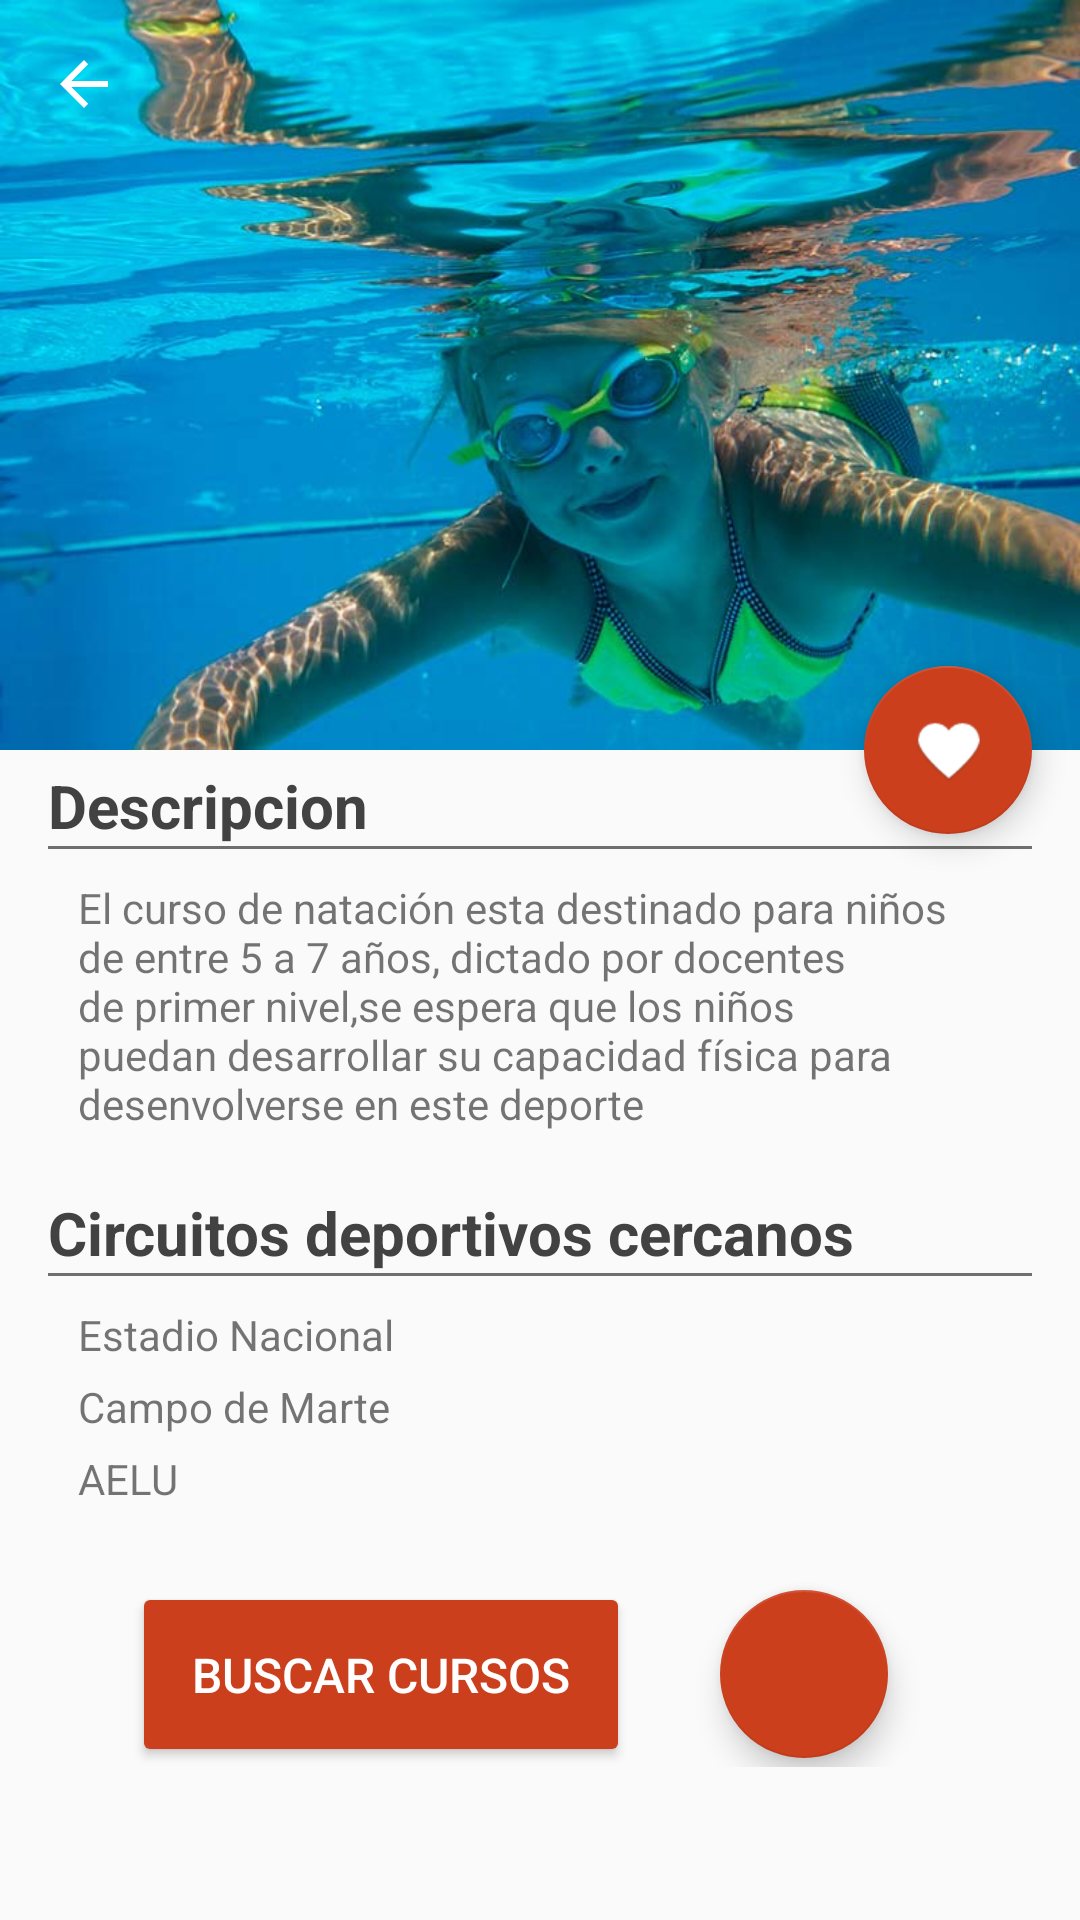

Icons on this 1080×1920 Android screen, each with the point to tap as (x=x, y=y):
like: (x=948, y=750)
